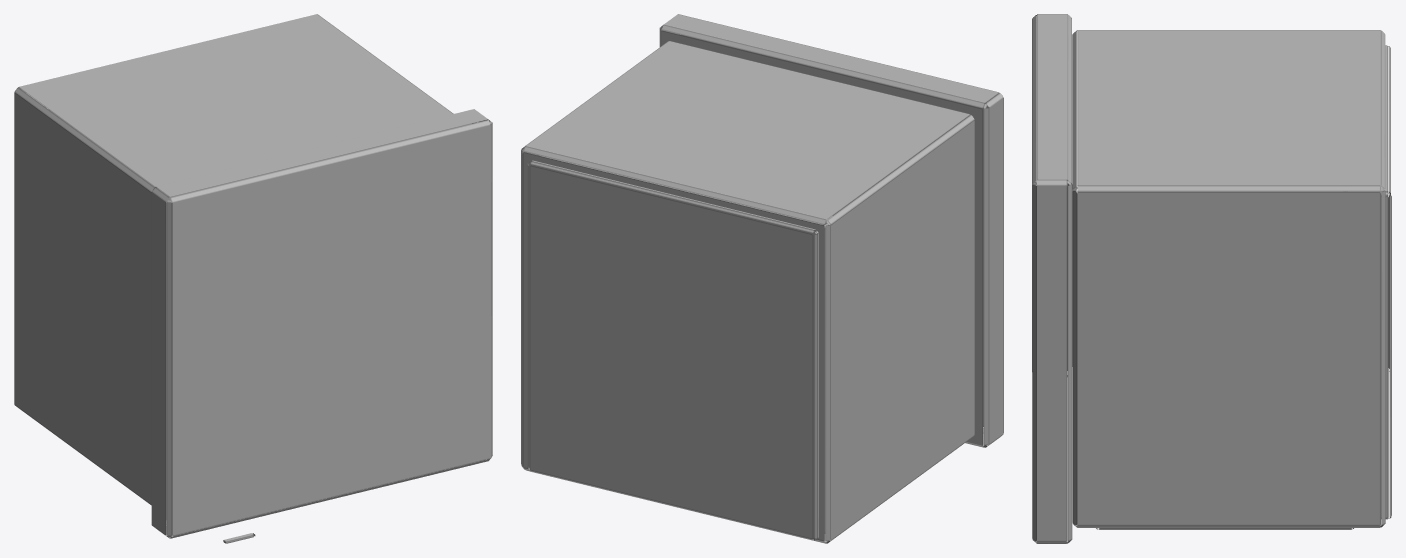
Rendered from counter_segment.obj.
The picture shows the model from 3 angles, left to right: view 1: azimuth 30°, elevation 25°; view 2: azimuth 150°, elevation 25°; view 3: azimuth 270°, elevation 25°; orthographic projection. The views are drawn at different scales.
Visible parts, largest first — view 1: counter_segment; view 2: counter_segment; view 3: counter_segment.
Boxes of the visible parts, bbox=[...] form: counter_segment: bbox=[14, 14, 492, 543]; counter_segment: bbox=[521, 14, 1003, 543]; counter_segment: bbox=[1032, 14, 1391, 543].
Bounding box in the file's own units: 1 × 1.06 × 0.895.
1 material, 1 textured.
